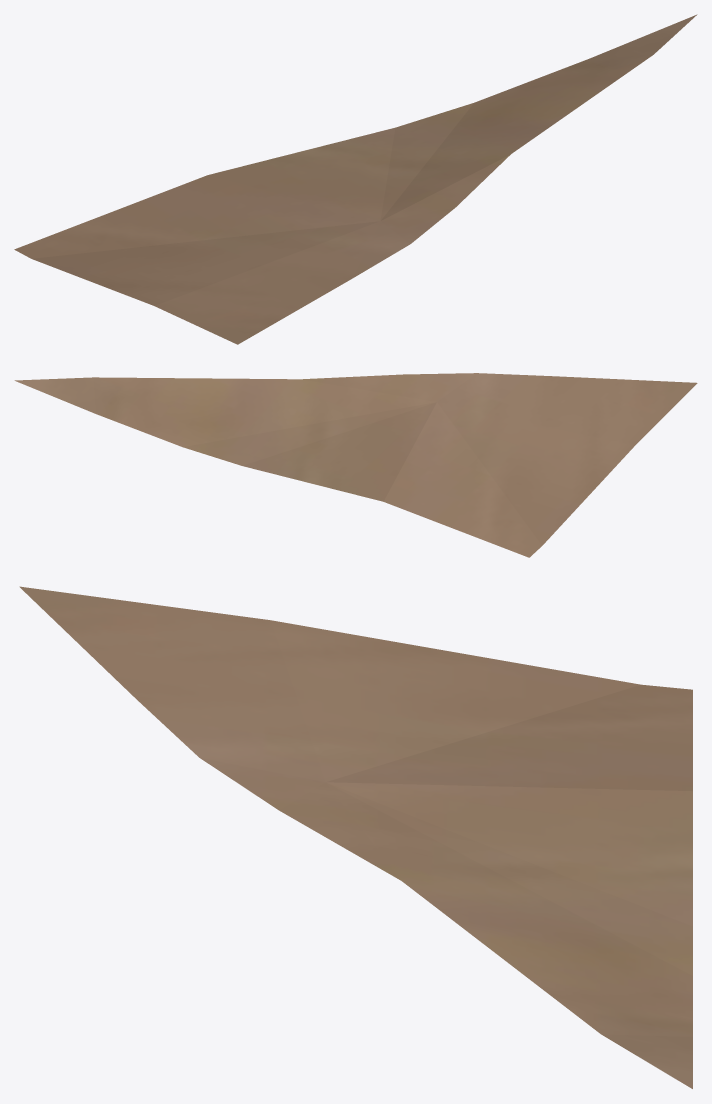
3 views of the same model, one above another, from view 1: azimuth 30°, elevation 25°; view 2: azimuth 150°, elevation 25°; view 3: azimuth 270°, elevation 25° (orthographic). The views are drawn at different scales.
Size of the model in its own units: 0.3382 by 0.0324 by 0.1916.
1 material, 1 textured.
